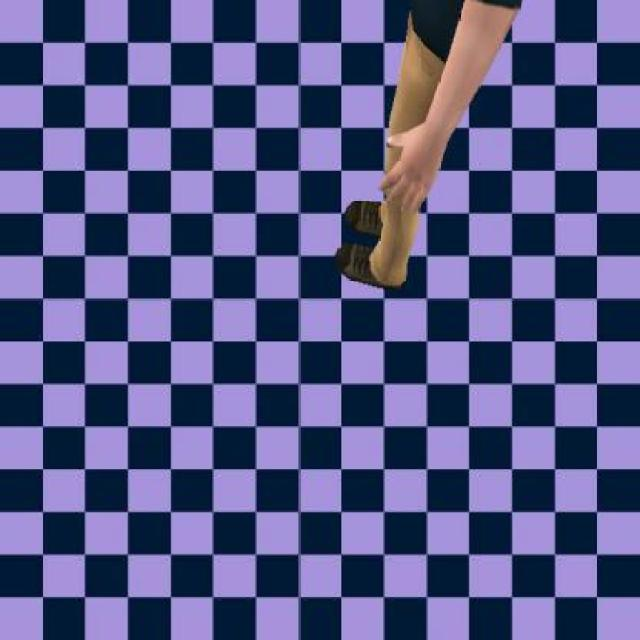Person: (330, 0, 524, 289)
